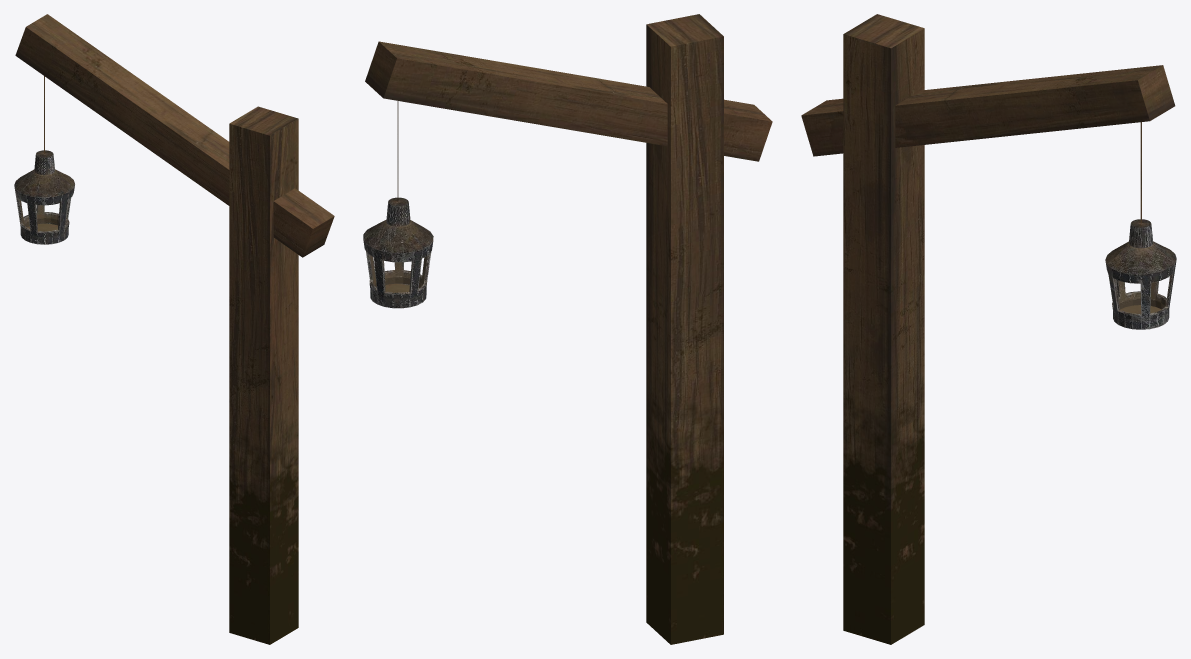
File: LampPost.fbx
The picture shows the model from 3 angles, left to right: view 1: azimuth 90°, elevation 25°; view 2: azimuth 150°, elevation 25°; view 3: azimuth 270°, elevation 25°; orthographic projection. The views are drawn at different scales.
Visible parts, largest first — view 1: Torch2_(2); view 2: Torch2_(2); view 3: Torch2_(2).
Part boxes in pixels (<box>): Torch2_(2): <box>14,14,334,644</box>; Torch2_(2): <box>363,14,772,644</box>; Torch2_(2): <box>801,14,1176,644</box>.
Size of the model in its own units: 1.95 by 4.79 by 2.57.
1 material, 1 textured.
